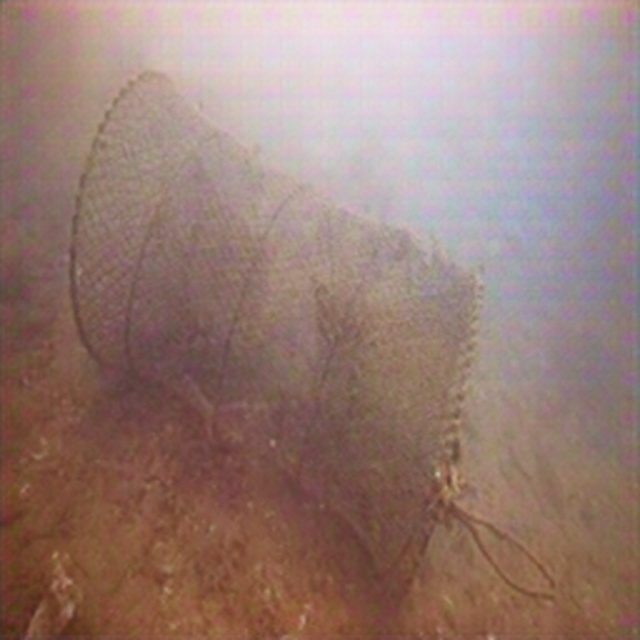mine: (68, 69, 485, 607)
